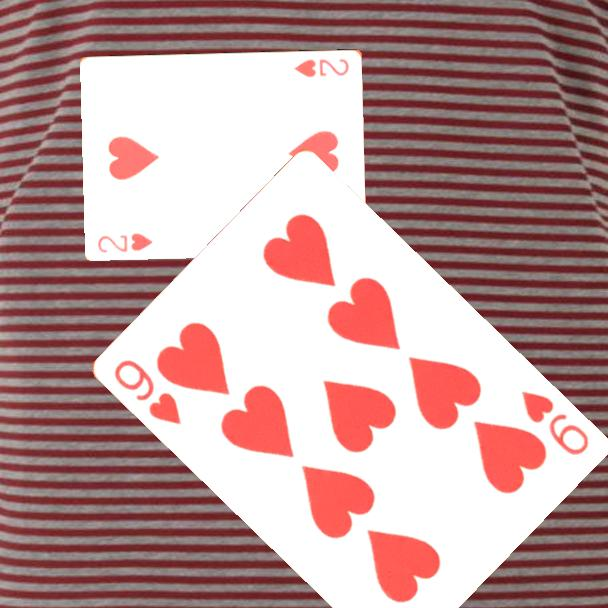h02: (94, 229, 156, 255), (291, 55, 352, 79)
h09: (518, 387, 593, 459), (111, 356, 185, 428)
